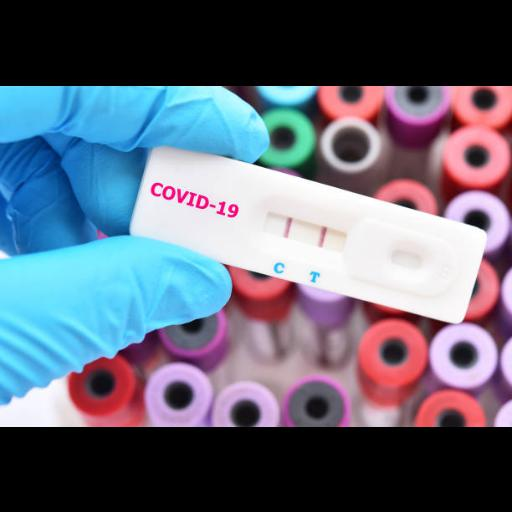Pos: (130, 142, 490, 326)
